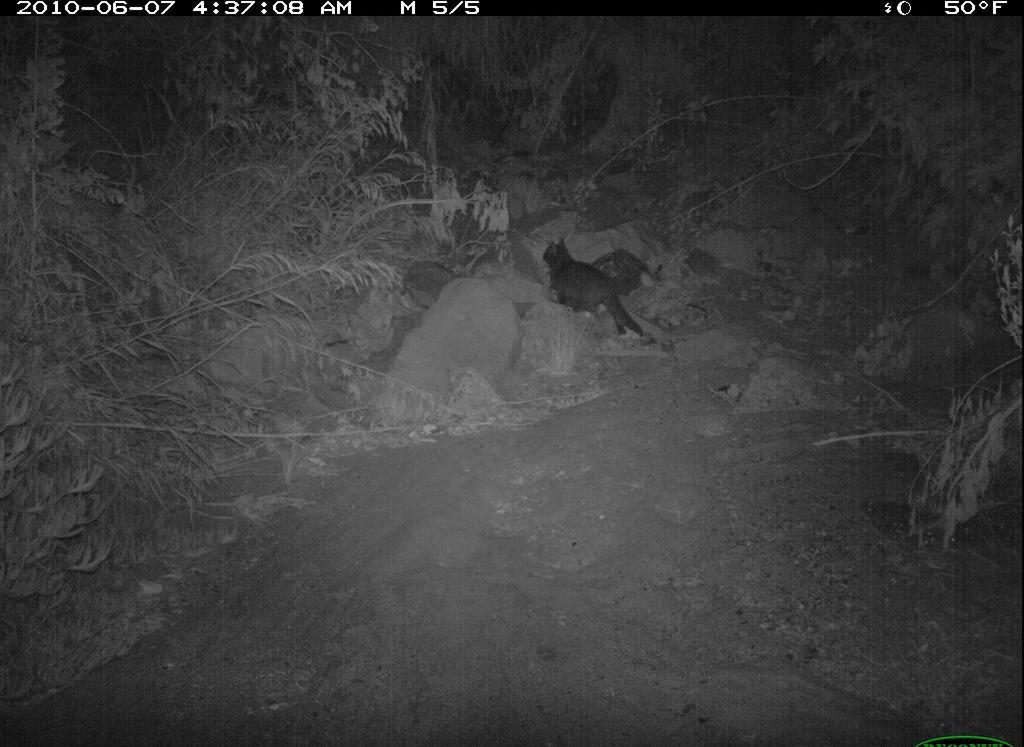cat: (539, 223, 664, 355)
